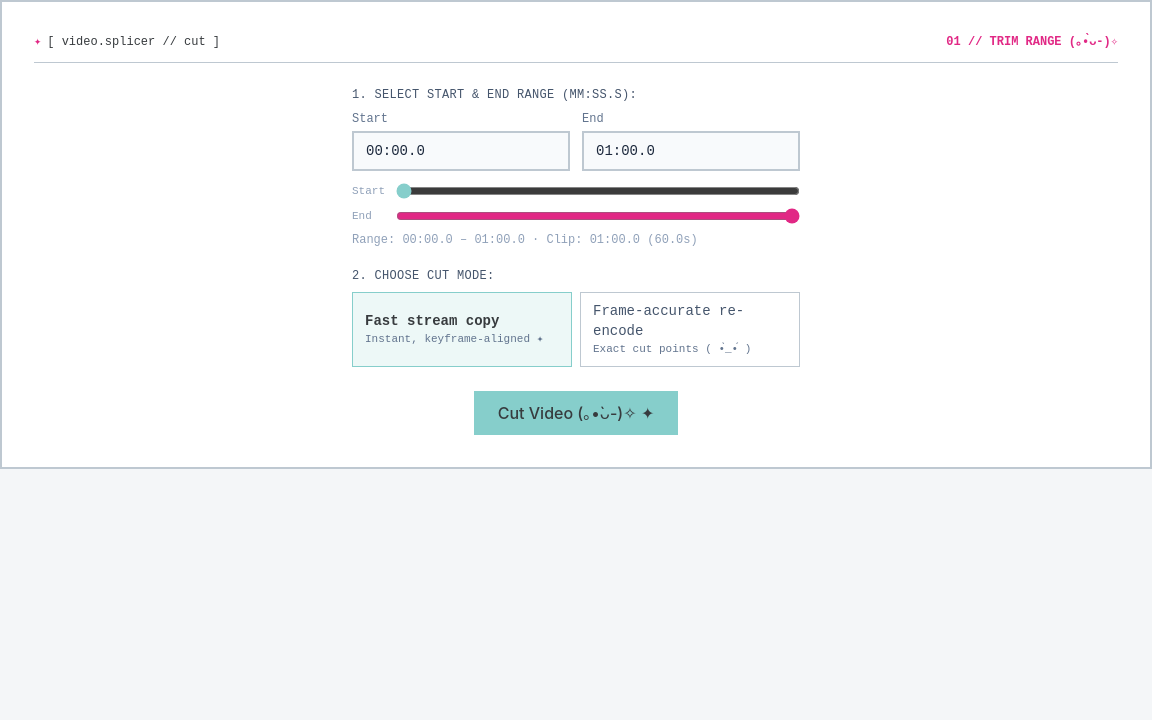
it: CutPanel › timestamp parsing and form validation › blocks submission when start >= end
Later steps or results of the test are not shown.
In the field with test id "cut-start-input": (461, 151) x1=352 y1=131 x2=570 y2=171, type "00:30.0"
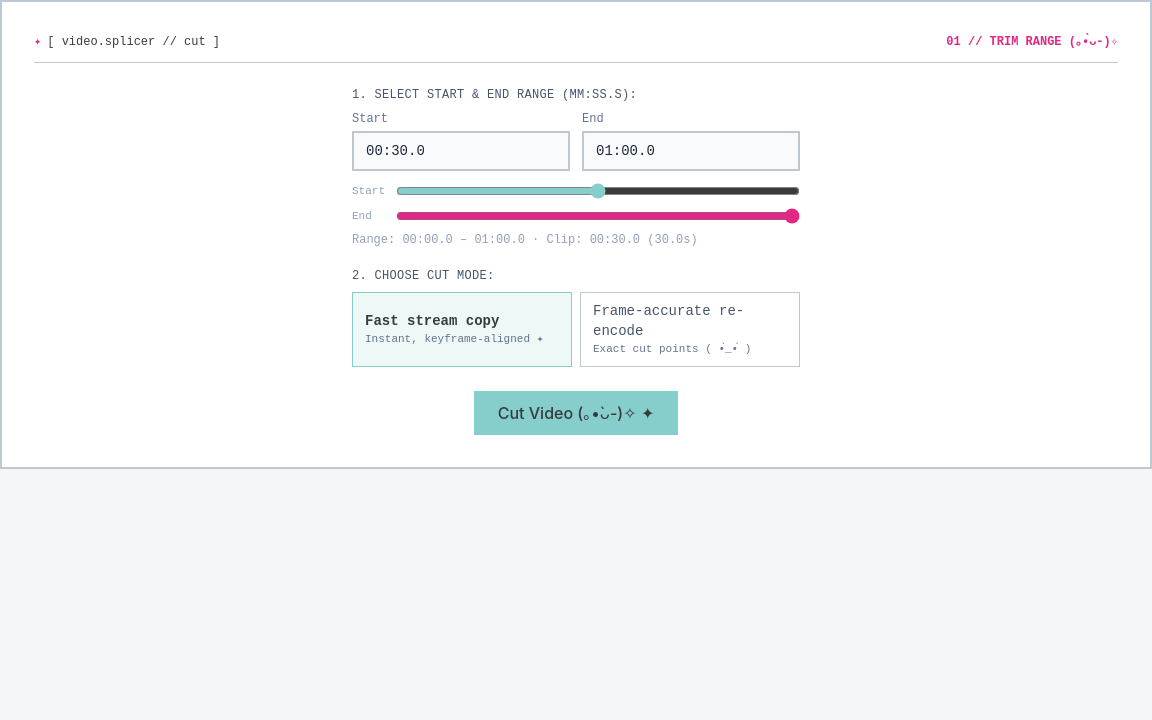
In the field with test id "cut-end-input": (691, 151) x1=582 y1=131 x2=800 y2=171, type "00:20.0"
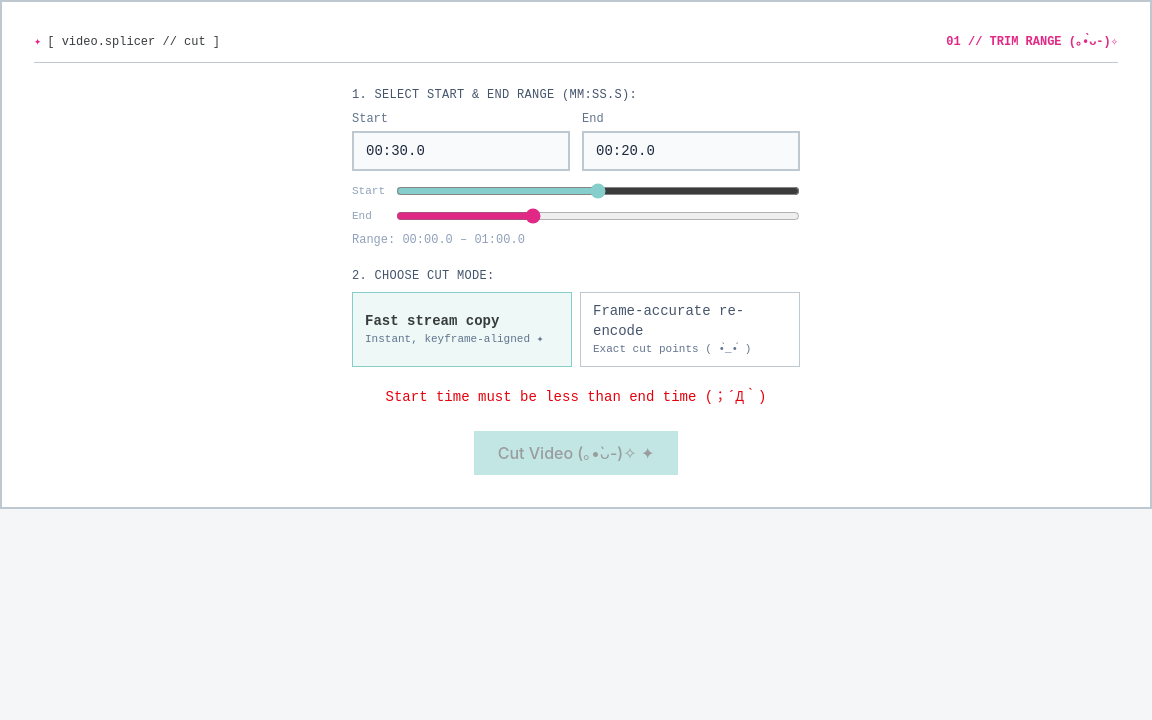
Expected: the message with test id "cut-validation-error" shows "Start time must be less than end time", x1=386 y1=388 x2=766 y2=404
Expected: the button with test id "start-cut-btn" is disabled, x1=474 y1=430 x2=678 y2=474
